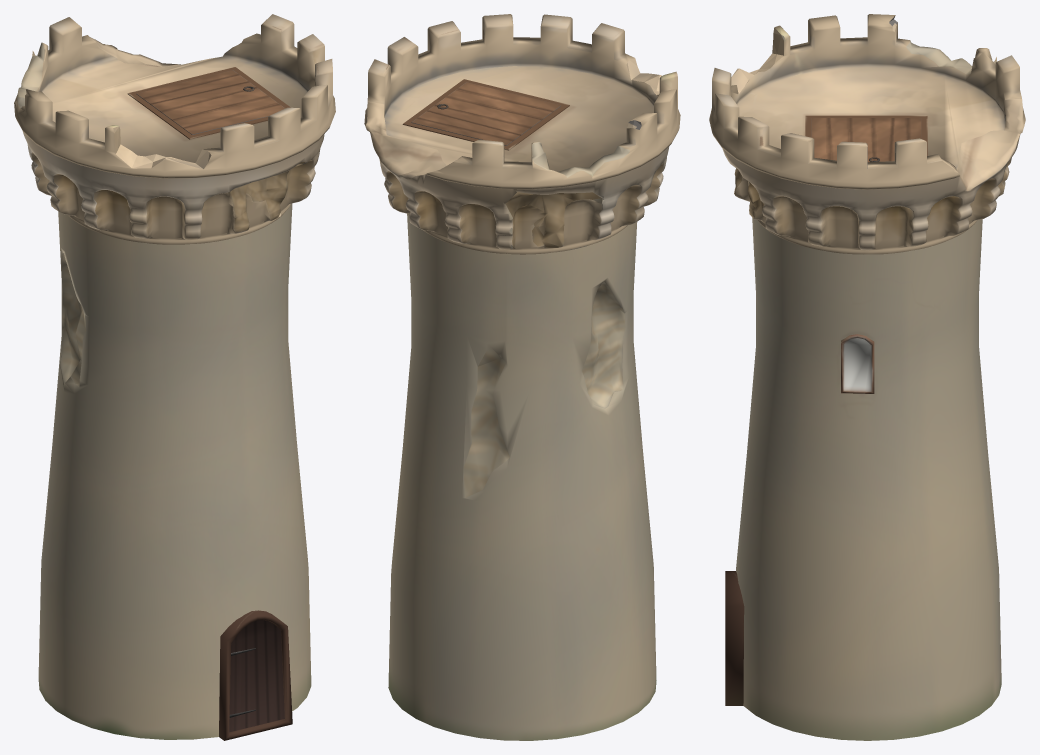
Rendered from TowerDamaged3.gltf.
The picture shows the model from 3 angles, left to right: view 1: azimuth 30°, elevation 25°; view 2: azimuth 150°, elevation 25°; view 3: azimuth 270°, elevation 25°; orthographic projection.
Parts seen in each view (by area): view 1: Cylinder.004; view 2: Cylinder.004; view 3: Cylinder.004.
Part boxes in pixels (x1=…): Cylinder.004: x1=14, y1=14, x2=335, y2=740; Cylinder.004: x1=364, y1=14, x2=680, y2=740; Cylinder.004: x1=709, y1=14, x2=1025, y2=740.
Bounding box in the file's own units: 6.29 × 13.24 × 6.29.
Materials: 1 (1 with a texture image).
